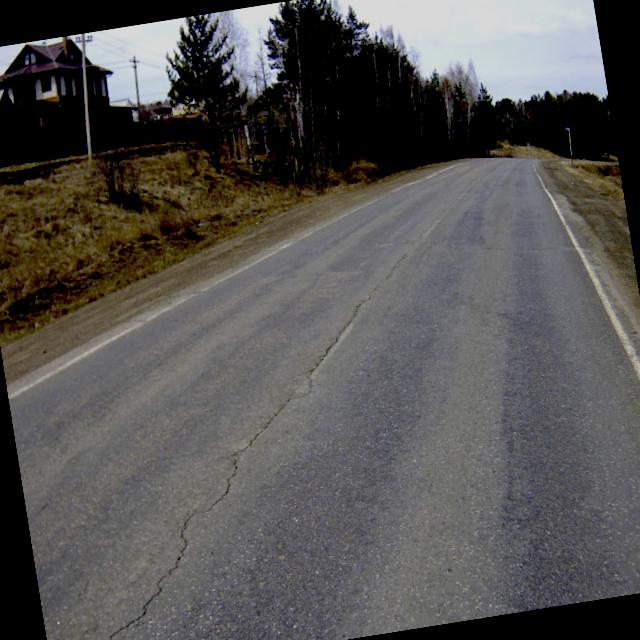road: (9, 157, 640, 640)
